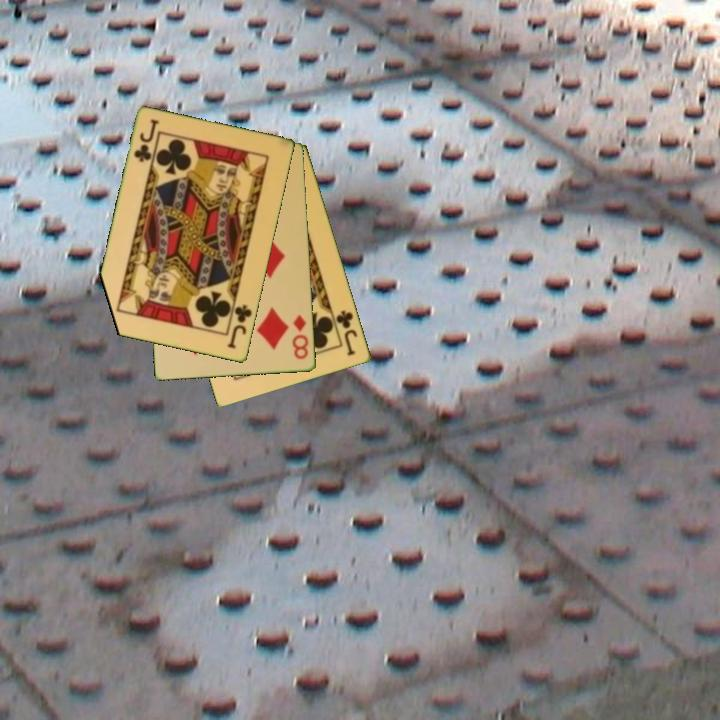8d: (289, 312, 311, 362)
Jc: (224, 301, 255, 352), (130, 116, 161, 165), (333, 307, 361, 359)
